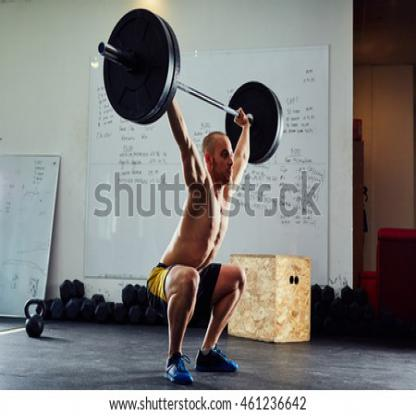Barbell: (97, 5, 184, 129)
